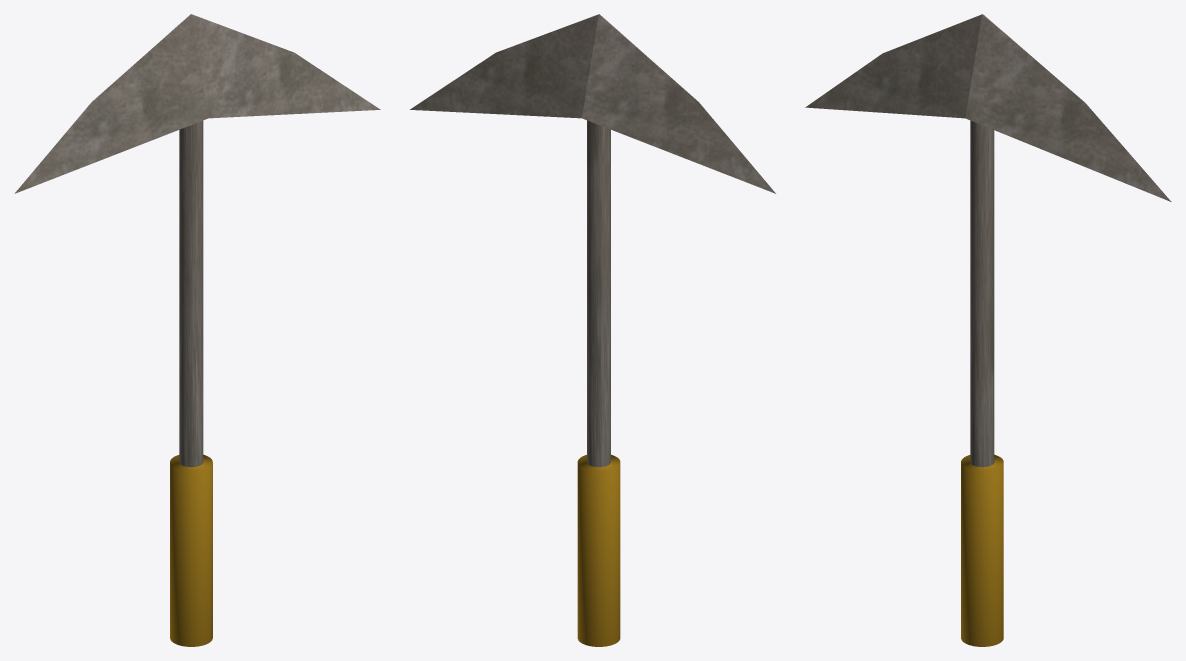
3 renders of one model, left to right at view 1: azimuth 30°, elevation 25°; view 2: azimuth 150°, elevation 25°; view 3: azimuth 330°, elevation 25°, orthographic.
Visible parts, largest first — view 1: Cube, Cylinder, grip_normal.001; view 2: Cube, Cylinder, grip_normal.001; view 3: Cube, Cylinder, grip_normal.001.
Boxes of the visible parts, left/top/right/bottom form: Cube: left=14, top=14, right=380, bottom=193; Cylinder: left=179, top=120, right=203, bottom=467; grip_normal.001: left=170, top=454, right=212, bottom=646; Cube: left=410, top=14, right=775, bottom=193; Cylinder: left=587, top=120, right=610, bottom=467; grip_normal.001: left=577, top=454, right=620, bottom=646; Cube: left=805, top=14, right=1171, bottom=201; Cylinder: left=970, top=120, right=994, bottom=467; grip_normal.001: left=961, top=454, right=1003, bottom=646.
Bounding box in the file's own units: 0.3677 × 0.5972 × 0.0594.
2 materials, 2 textured.
